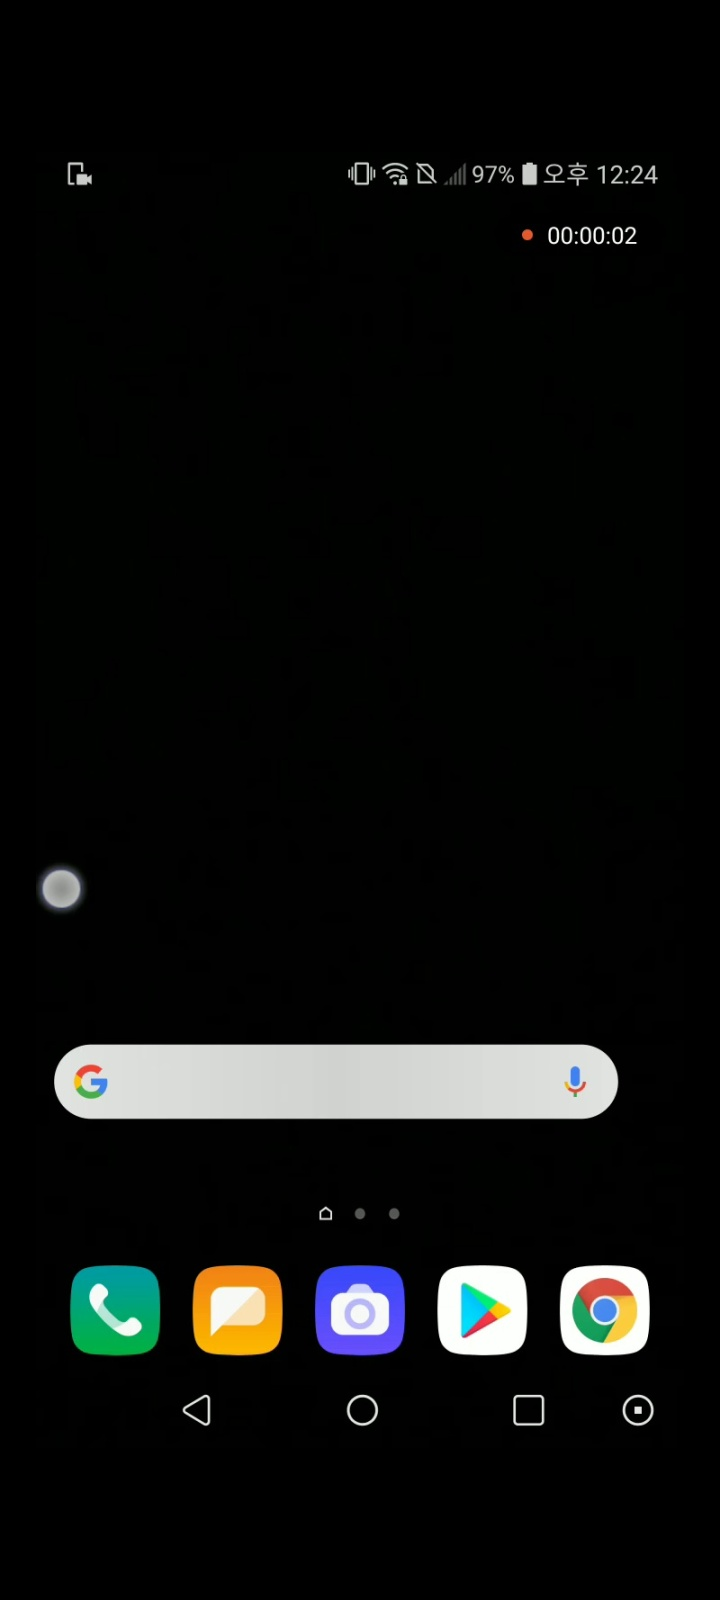Cursor: (38, 867, 83, 912)
